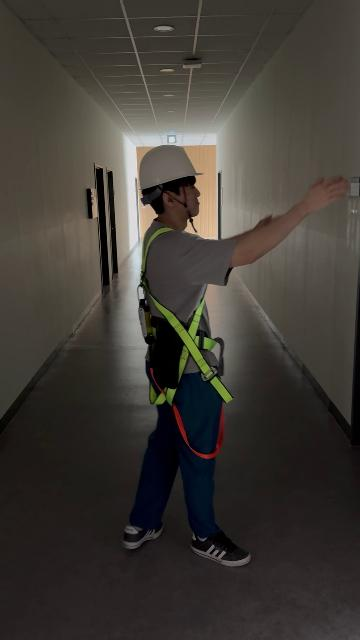helmet_worn: (137, 144, 204, 191)
shoe_not_worn: (190, 530, 251, 566), (123, 521, 164, 549)
vest_worn: (139, 231, 236, 457)
